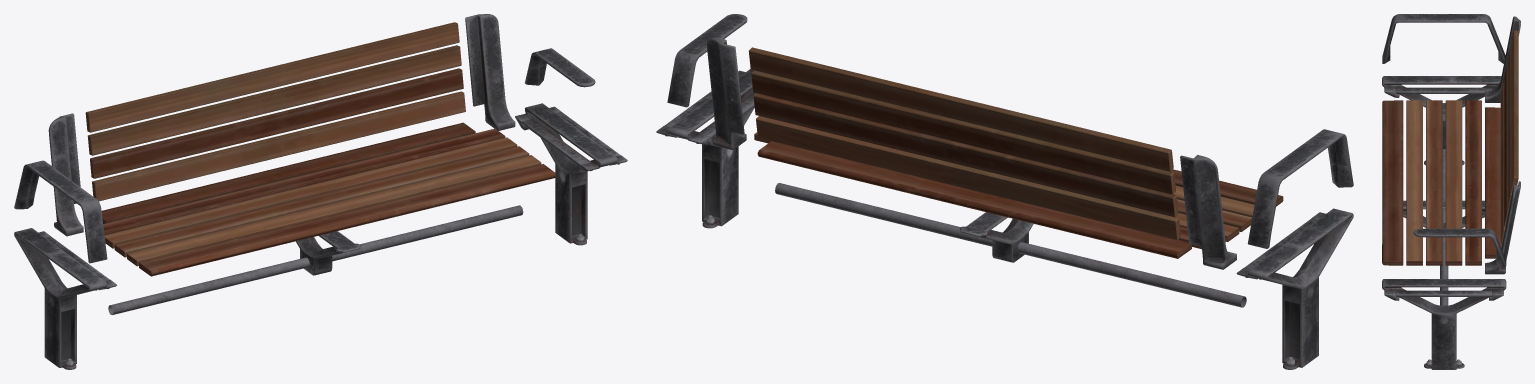
File: banc-basse.glb
3 renders of one model, left to right at view 1: azimuth 30°, elevation 25°; view 2: azimuth 150°, elevation 25°; view 3: azimuth 270°, elevation 25°, orthographic. The views are drawn at different scales.
Parts seen in each view (by area): view 1: seat_back, seat, legs_double, legs_single, crossbar, back_support_l, arm_rest_01, back_support_r, suspended_support_01, arm_rest_02; view 2: seat_back, seat, legs_single, crossbar, legs_double, arm_rest_01, back_support_r, back_support_l, arm_rest_02, suspended_support_01; view 3: seat, legs_double, seat_back, legs_single, arm_rest_01, arm_rest_02, back_support_l, crossbar, back_support_r, suspended_support_01.
Boxes of the visible parts, x1,y1,x2,y2 form: seat_back: (85,22,465,201); seat: (101,122,555,276); legs_double: (515,103,627,245); legs_single: (14,228,116,369); crossbar: (108,205,523,314); back_support_l: (465,14,515,130); arm_rest_01: (14,160,107,263); back_support_r: (48,113,83,236); suspended_support_01: (296,231,360,275); arm_rest_02: (525,48,595,87); seat_back: (748,47,1180,239); seat: (754,132,1283,258); legs_single: (1236,208,1353,369); crossbar: (775,183,1246,307); legs_double: (656,69,756,228); arm_rest_01: (1247,129,1353,248); back_support_r: (1180,155,1236,269); back_support_l: (706,37,746,149); arm_rest_02: (667,14,747,107); suspended_support_01: (960,212,1033,262); seat: (1382,100,1501,265); legs_double: (1382,279,1506,369); seat_back: (1500,30,1518,243); legs_single: (1382,76,1501,165); arm_rest_01: (1382,14,1505,63); arm_rest_02: (1413,228,1506,266); back_support_l: (1485,181,1520,274); crossbar: (1440,149,1448,305); back_support_r: (1485,16,1520,102); suspended_support_01: (1403,200,1484,228).
Size of the model in its own units: 2.45 by 0.8669 by 0.6704.
3 materials, 3 textured.
